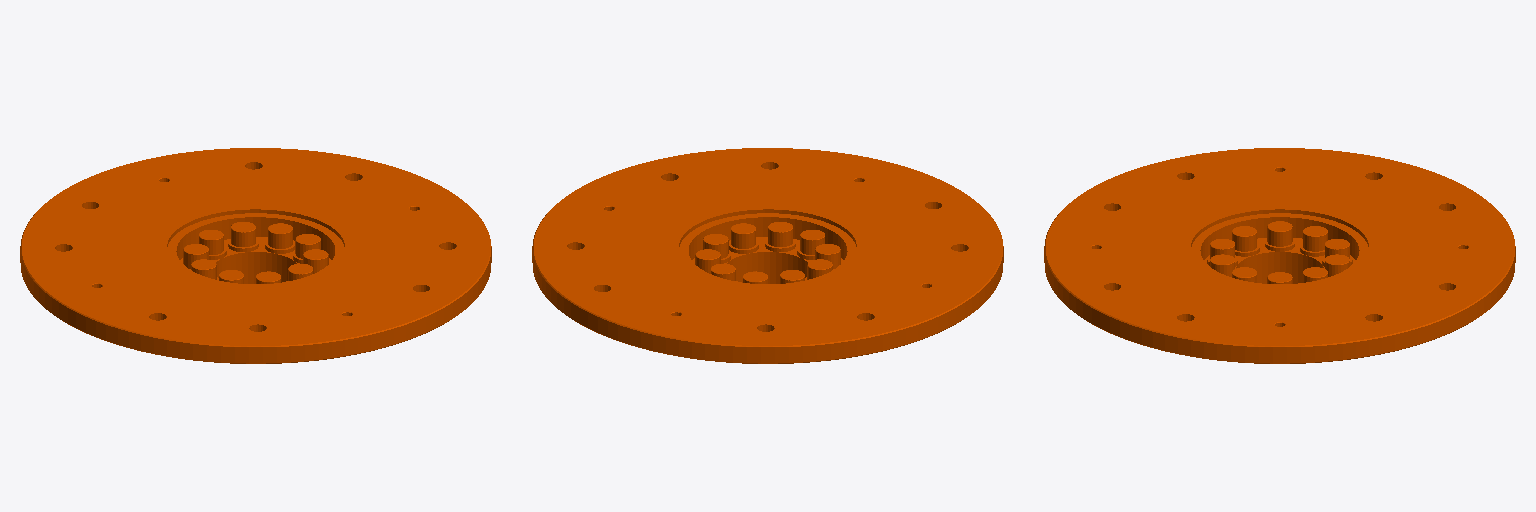
URDF robot description (Irbpb-750_D1450_IRC5_rev02_CAD):
<?xml version="1.0" ?>
<robot name="Irbpb-750_D1450_IRC5_rev02_CAD">

<link name="base_link">
  <inertial>
    <origin xyz="1.2220238746065277 0.2878722701066042 0.21441615376360967" rpy="0 0 0"/>
    <mass value="1310.5292686537296"/>
    <inertia ixx="51.101771" iyy="82.104533" izz="91.002161" ixy="-0.063507" iyz="-0.013079" ixz="-0.950218"/>
  </inertial>
  <visual>
    <origin xyz="0 0 0" rpy="0 0 0"/>
    <geometry>
      <mesh filename="package://Irbpb-750_D1450_IRC5_rev02_CAD_description/meshes/base_link.stl" scale="0.001 0.001 0.001"/>
    </geometry>
    <material name="silver"/>
  </visual>
  <collision>
    <origin xyz="0 0 0" rpy="0 0 0"/>
    <geometry>
      <mesh filename="package://Irbpb-750_D1450_IRC5_rev02_CAD_description/meshes/base_link.stl" scale="0.001 0.001 0.001"/>
    </geometry>
  </collision>
</link>

<link name="Irbpb-750_D1450_IRC5_rev02_Turntable750B_CAD_1">
  <inertial>
    <origin xyz="0.00012299746507782316 0.001527973886110645 0.5577259057600324" rpy="0 0 0"/>
    <mass value="1938.1969728782942"/>
    <inertia ixx="823.496369" iyy="230.871329" izz="703.128226" ixy="-56.14157" iyz="1.351869" ixz="0.102413"/>
  </inertial>
  <visual>
    <origin xyz="-1.31 -0.287995 -0.481" rpy="0 0 0"/>
    <geometry>
      <mesh filename="package://Irbpb-750_D1450_IRC5_rev02_CAD_description/meshes/Irbpb-750_D1450_IRC5_rev02_Turntable750B_CAD_1.stl" scale="0.001 0.001 0.001"/>
    </geometry>
    <material name="silver"/>
  </visual>
  <collision>
    <origin xyz="-1.31 -0.287995 -0.481" rpy="0 0 0"/>
    <geometry>
      <mesh filename="package://Irbpb-750_D1450_IRC5_rev02_CAD_description/meshes/Irbpb-750_D1450_IRC5_rev02_Turntable750B_CAD_1.stl" scale="0.001 0.001 0.001"/>
    </geometry>
  </collision>
</link>

<link name="Irbpb-750_D1450_IRC5_rev02_arm750AB_CAD_1">
  <inertial>
    <origin xyz="0.7125104505240922 0.0032798500812573073 -0.3647933186231007" rpy="0 0 0"/>
    <mass value="519.3032645784656"/>
    <inertia ixx="22.626406" iyy="78.303916" izz="66.64645" ixy="-0.043181" iyz="0.336" ixz="25.248478"/>
  </inertial>
  <visual>
    <origin xyz="-1.673 -0.575995 -1.1" rpy="0 0 0"/>
    <geometry>
      <mesh filename="package://Irbpb-750_D1450_IRC5_rev02_CAD_description/meshes/Irbpb-750_D1450_IRC5_rev02_arm750AB_CAD_1.stl" scale="0.001 0.001 0.001"/>
    </geometry>
    <material name="silver"/>
  </visual>
  <collision>
    <origin xyz="-1.673 -0.575995 -1.1" rpy="0 0 0"/>
    <geometry>
      <mesh filename="package://Irbpb-750_D1450_IRC5_rev02_CAD_description/meshes/Irbpb-750_D1450_IRC5_rev02_arm750AB_CAD_1.stl" scale="0.001 0.001 0.001"/>
    </geometry>
  </collision>
</link>

<link name="Irbpb-750_D1450_IRC5_rev02_platter_d450_CAD_1">
  <inertial>
    <origin xyz="0.001112486430053572 4.393370914845818e-07 0.044867865424758735" rpy="0 0 0"/>
    <mass value="21.25030383337227"/>
    <inertia ixx="0.228504" iyy="0.231342" izz="0.446816" ixy="0.0" iyz="-0.0" ixz="0.000583"/>
  </inertial>
  <visual>
    <origin xyz="-2.62 -0.57599 -0.8365" rpy="0 0 0"/>
    <geometry>
      <mesh filename="package://Irbpb-750_D1450_IRC5_rev02_CAD_description/meshes/Irbpb-750_D1450_IRC5_rev02_platter_d450_CAD_1.stl" scale="0.001 0.001 0.001"/>
    </geometry>
    <material name="silver"/>
  </visual>
  <collision>
    <origin xyz="-2.62 -0.57599 -0.8365" rpy="0 0 0"/>
    <geometry>
      <mesh filename="package://Irbpb-750_D1450_IRC5_rev02_CAD_description/meshes/Irbpb-750_D1450_IRC5_rev02_platter_d450_CAD_1.stl" scale="0.001 0.001 0.001"/>
    </geometry>
  </collision>
</link>

<link name="Irbpb-750_D1450_IRC5_rev02_arm750AB_CAD_2">
  <inertial>
    <origin xyz="-0.7125104505241117 -0.003279410744182416 -0.3647933186230826" rpy="0 0 0"/>
    <mass value="519.3032645784656"/>
    <inertia ixx="22.626406" iyy="78.303916" izz="66.64645" ixy="-0.043181" iyz="-0.336" ixz="-25.248478"/>
  </inertial>
  <visual>
    <origin xyz="-0.947 5e-06 -1.1" rpy="0 0 0"/>
    <geometry>
      <mesh filename="package://Irbpb-750_D1450_IRC5_rev02_CAD_description/meshes/Irbpb-750_D1450_IRC5_rev02_arm750AB_CAD_2.stl" scale="0.001 0.001 0.001"/>
    </geometry>
    <material name="silver"/>
  </visual>
  <collision>
    <origin xyz="-0.947 5e-06 -1.1" rpy="0 0 0"/>
    <geometry>
      <mesh filename="package://Irbpb-750_D1450_IRC5_rev02_CAD_description/meshes/Irbpb-750_D1450_IRC5_rev02_arm750AB_CAD_2.stl" scale="0.001 0.001 0.001"/>
    </geometry>
  </collision>
</link>

<link name="Irbpb-750_D1450_IRC5_rev02_platter_d450_CAD_2">
  <inertial>
    <origin xyz="-0.0011124864300715704 -1.4891614808044477e-15 0.04356786542477997" rpy="0 0 0"/>
    <mass value="21.25030383337227"/>
    <inertia ixx="0.228504" iyy="0.231342" izz="0.446816" ixy="0.0" iyz="0.0" ixz="-0.000583"/>
  </inertial>
  <visual>
    <origin xyz="0.0 0.0 -0.8378" rpy="0 0 0"/>
    <geometry>
      <mesh filename="package://Irbpb-750_D1450_IRC5_rev02_CAD_description/meshes/Irbpb-750_D1450_IRC5_rev02_platter_d450_CAD_2.stl" scale="0.001 0.001 0.001"/>
    </geometry>
    <material name="silver"/>
  </visual>
  <collision>
    <origin xyz="0.0 0.0 -0.8378" rpy="0 0 0"/>
    <geometry>
      <mesh filename="package://Irbpb-750_D1450_IRC5_rev02_CAD_description/meshes/Irbpb-750_D1450_IRC5_rev02_platter_d450_CAD_2.stl" scale="0.001 0.001 0.001"/>
    </geometry>
  </collision>
</link>

<joint name="j1" type="continuous">
  <origin xyz="1.31 0.287995 0.481" rpy="0 0 0"/>
  <parent link="base_link"/>
  <child link="Irbpb-750_D1450_IRC5_rev02_Turntable750B_CAD_1"/>
  <axis xyz="-0.0 -0.0 -1.0"/>
</joint>

<joint name="j2" type="continuous">
  <origin xyz="0.363 0.288 0.619" rpy="0 0 0"/>
  <parent link="Irbpb-750_D1450_IRC5_rev02_Turntable750B_CAD_1"/>
  <child link="Irbpb-750_D1450_IRC5_rev02_arm750AB_CAD_1"/>
  <axis xyz="1.0 0.0 0.0"/>
</joint>

<joint name="j3" type="continuous">
  <origin xyz="0.947 -5e-06 -0.2635" rpy="0 0 0"/>
  <parent link="Irbpb-750_D1450_IRC5_rev02_arm750AB_CAD_1"/>
  <child link="Irbpb-750_D1450_IRC5_rev02_platter_d450_CAD_1"/>
  <axis xyz="-0.0 0.0 1.0"/>
</joint>

<joint name="j4" type="continuous">
  <origin xyz="-0.363 -0.288 0.619" rpy="0 0 0"/>
  <parent link="Irbpb-750_D1450_IRC5_rev02_Turntable750B_CAD_1"/>
  <child link="Irbpb-750_D1450_IRC5_rev02_arm750AB_CAD_2"/>
  <axis xyz="-1.0 -0.0 0.0"/>
</joint>

<joint name="j5" type="continuous">
  <origin xyz="-0.947 5e-06 -0.2622" rpy="0 0 0"/>
  <parent link="Irbpb-750_D1450_IRC5_rev02_arm750AB_CAD_2"/>
  <child link="Irbpb-750_D1450_IRC5_rev02_platter_d450_CAD_2"/>
  <axis xyz="-0.0 0.0 -1.0"/>
</joint>

</robot>

--- What the picture shows (computed from the rendered views, not written in the file) ---
The picture shows the robot from 3 angles, left to right: view 1: azimuth 30°, elevation 25°; view 2: azimuth 150°, elevation 25°; view 3: azimuth 270°, elevation 25°; orthographic projection.
Robot: Irbpb-750_D1450_IRC5_rev02_CAD — 6 links, 5 joints (5 continuous); root link base_link; default pose: every joint at zero.
Links seen in each view (by area): view 1: Irbpb-750_D1450_IRC5_rev02_platter_d450_CAD_2; view 2: Irbpb-750_D1450_IRC5_rev02_platter_d450_CAD_2; view 3: Irbpb-750_D1450_IRC5_rev02_platter_d450_CAD_2.
Boxes of the visible links, x1,y1,x2,y2 form: Irbpb-750_D1450_IRC5_rev02_platter_d450_CAD_2: (20,148,491,363); Irbpb-750_D1450_IRC5_rev02_platter_d450_CAD_2: (532,148,1003,363); Irbpb-750_D1450_IRC5_rev02_platter_d450_CAD_2: (1044,148,1515,363).
Bounding box of the posed robot: 0.4499 × 0.4499 × 0.066 m (x, y, z).
Meshes: 6 distinct files referenced, 1 mesh visuals loaded (1 binary STL); not drawn: 5 (reference not matched to a file when rendering).